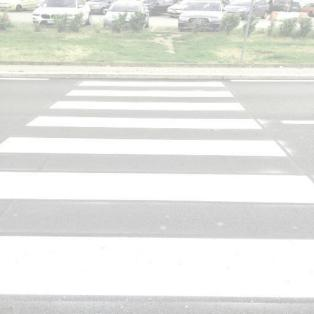Paso de Cebra: (0, 164, 314, 308), (20, 98, 270, 133)
